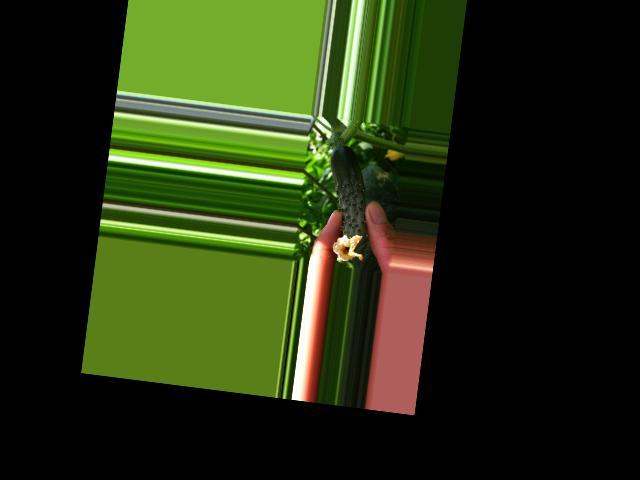cucumber: (318, 143, 377, 263)
